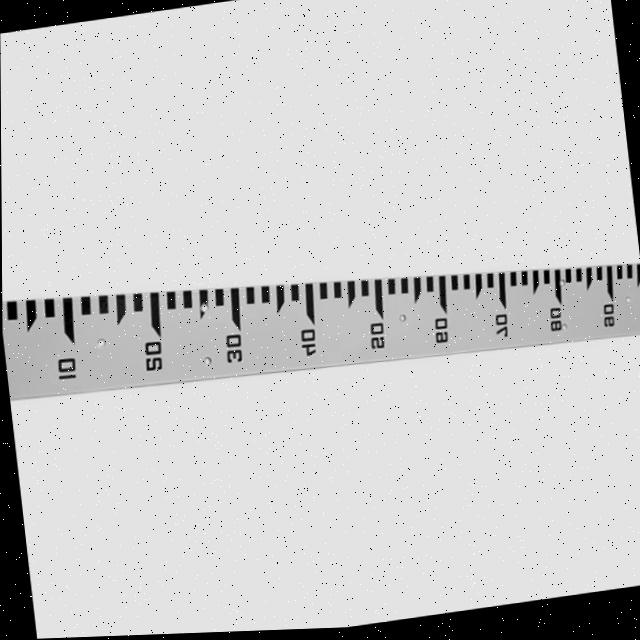water-meter: (2, 194, 640, 437)
